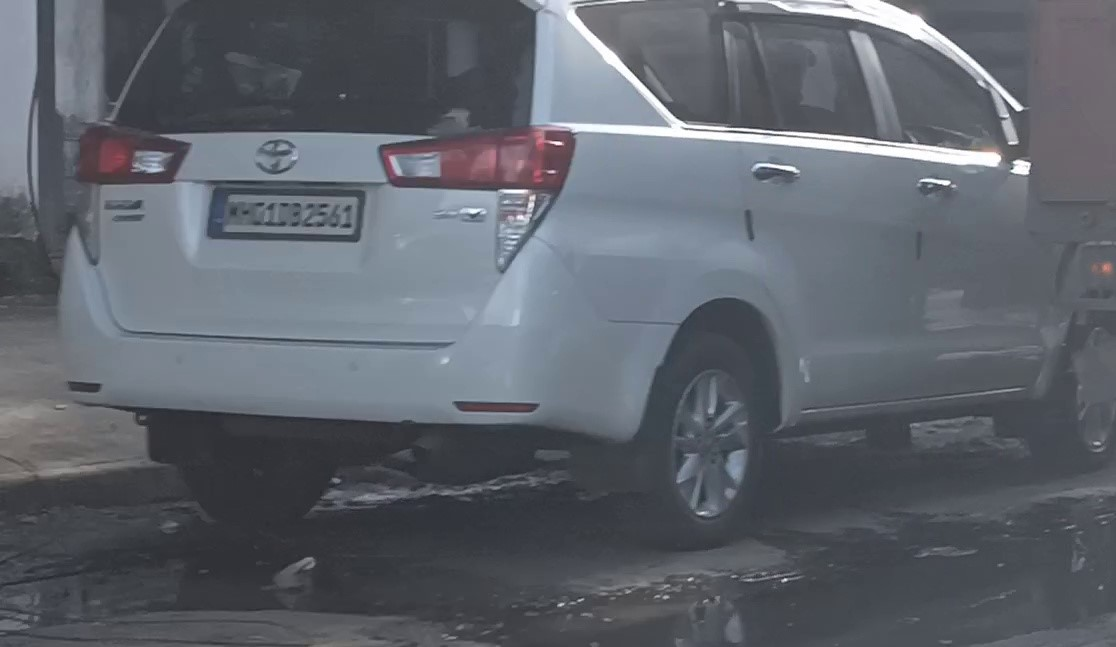MH01DB2561: (220, 191, 358, 236)
